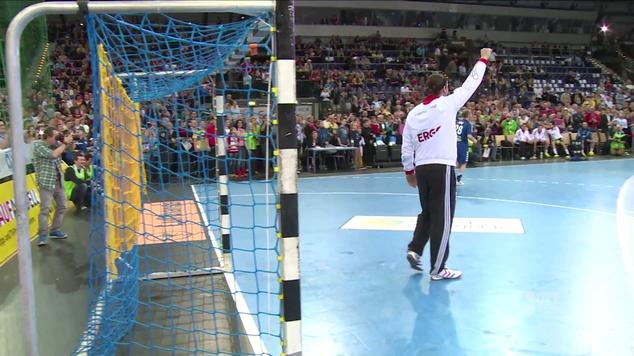hands_up: (400, 61, 473, 287)
